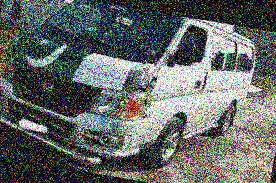van: (0, 0, 264, 183)
